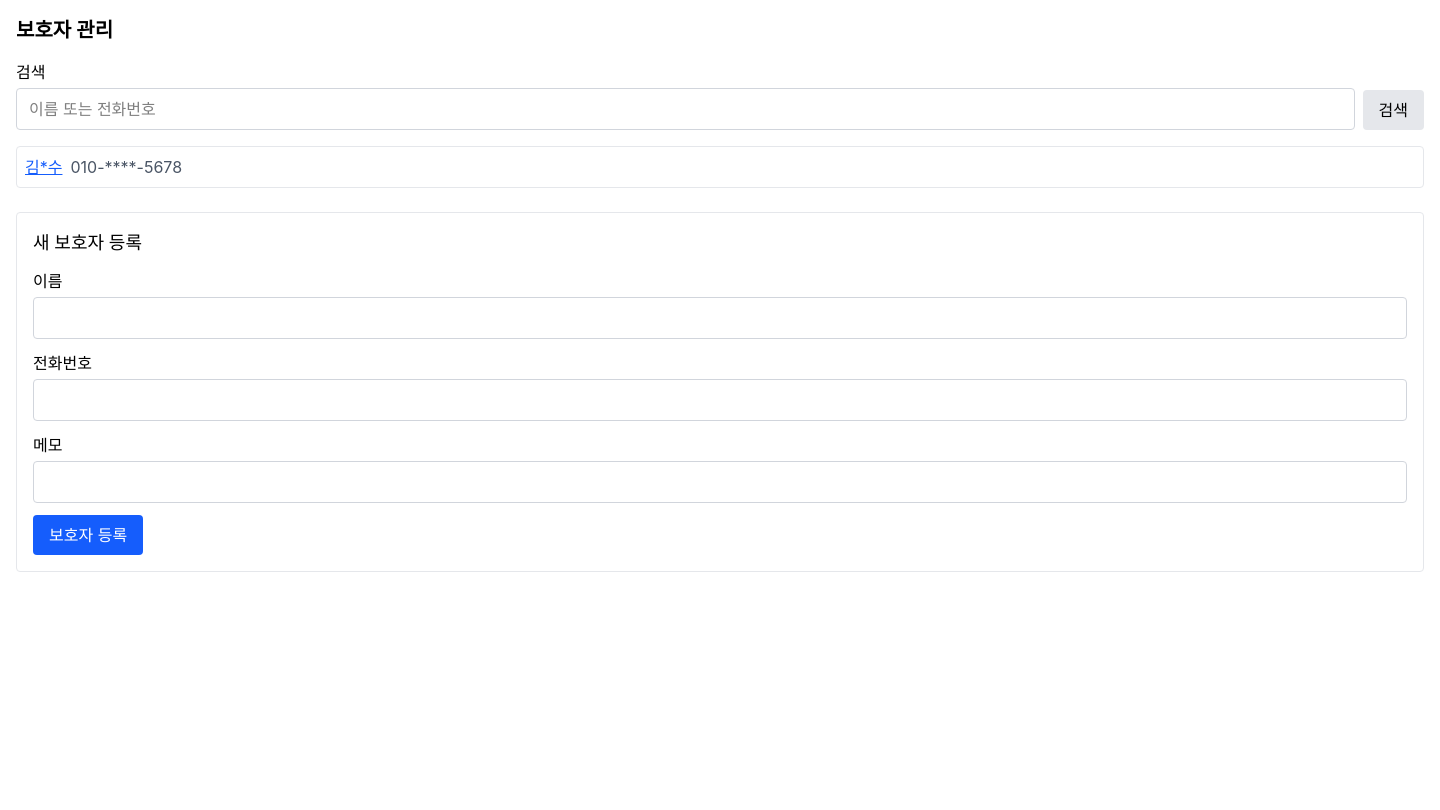
it: GuardianListPage › loads the guardian list and creates a new guardian
Expected: the link "김*수" is shown, [25,157,62,177]
Type "새보호자" into the field labelled "이름" at (720, 318), box [33,297,1407,339]
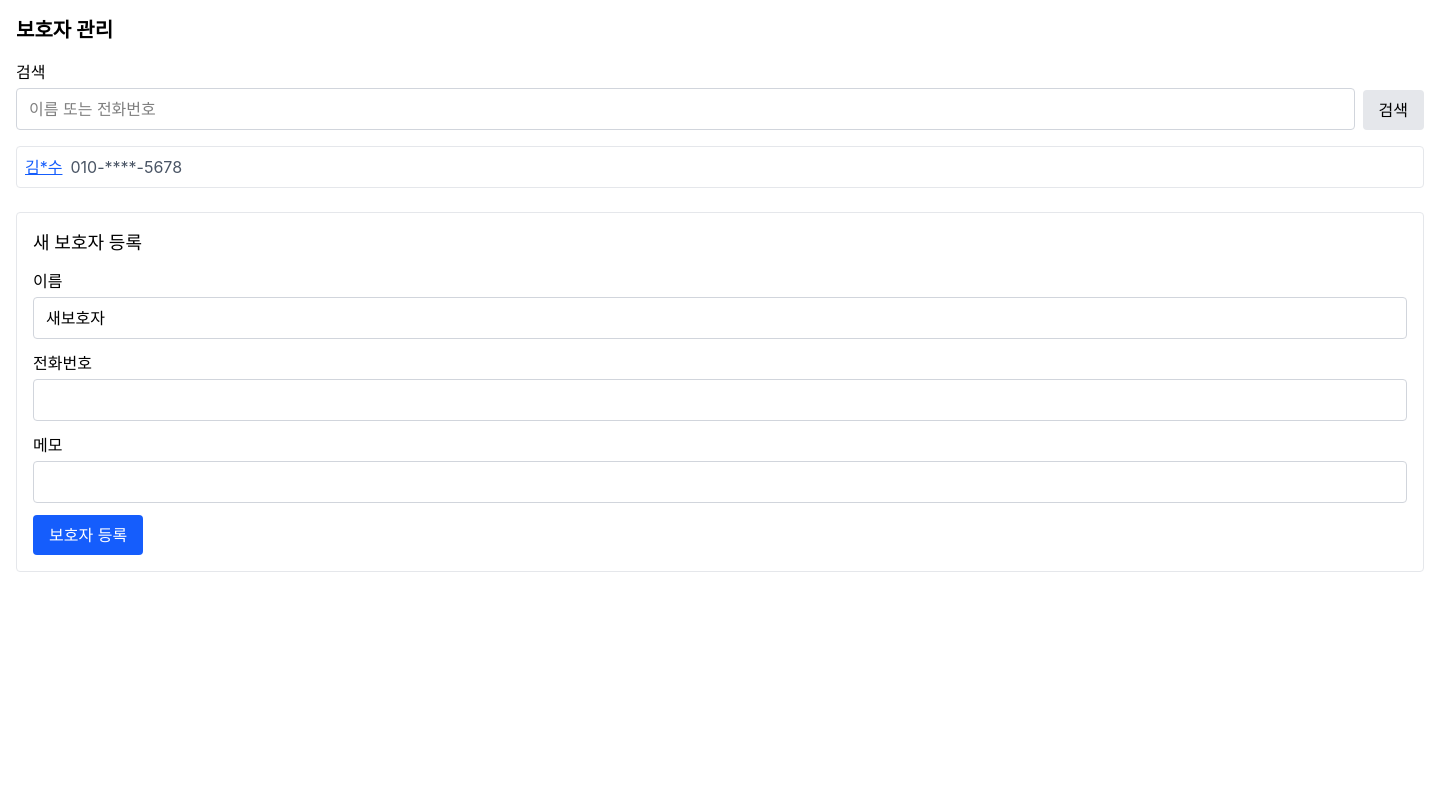
Type "010-1111-2222" into the field labelled "전화번호" at (720, 400), box [33,379,1407,421]
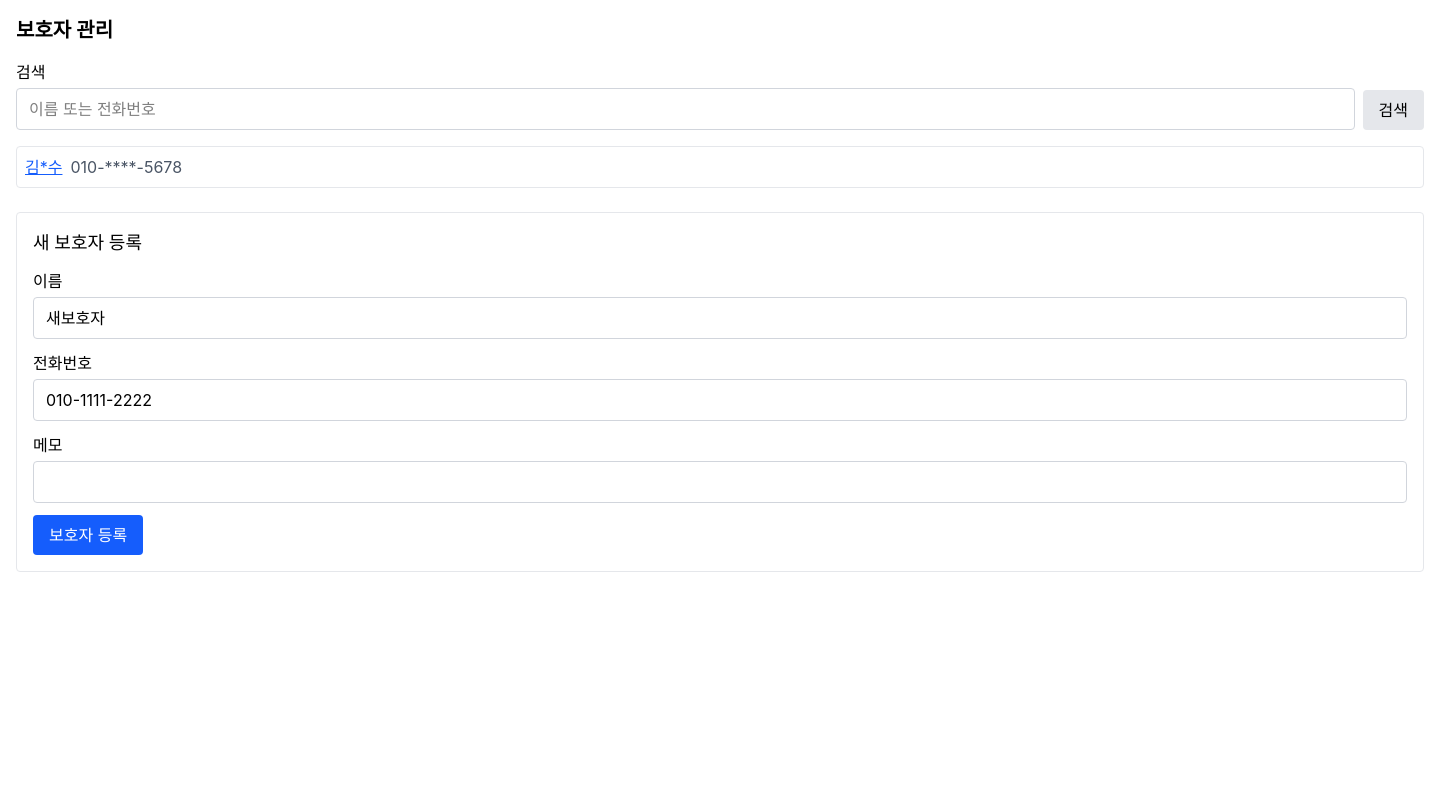
Click the button "보호자 등록" at (88, 535), box [33,515,143,555]
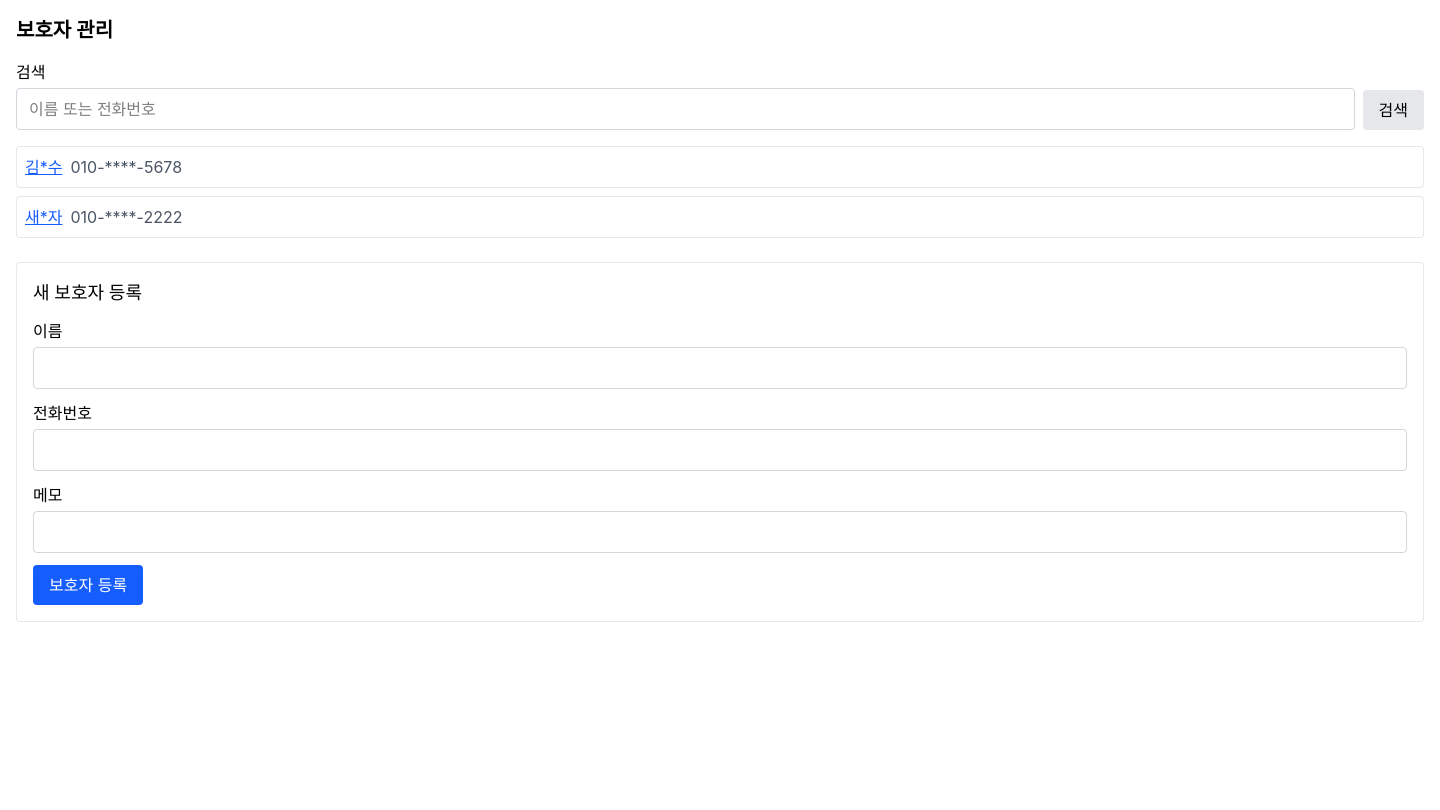
Expected: the link "새*자" is shown, [25,207,62,227]
